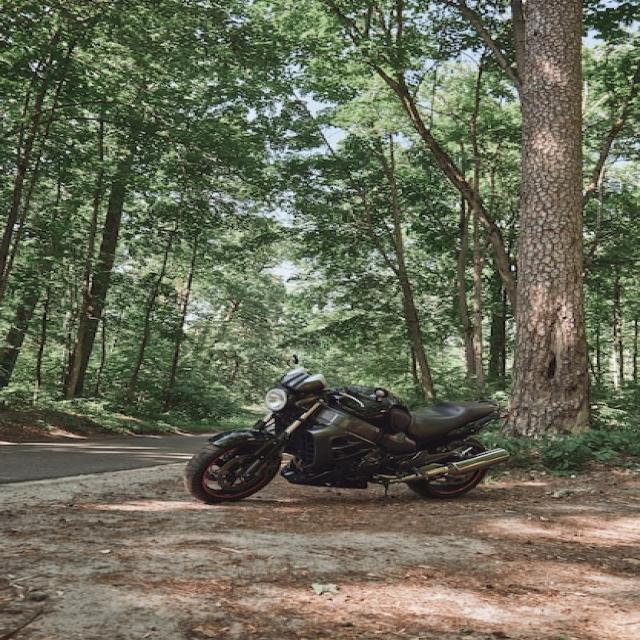Bike: (170, 348, 531, 506)
